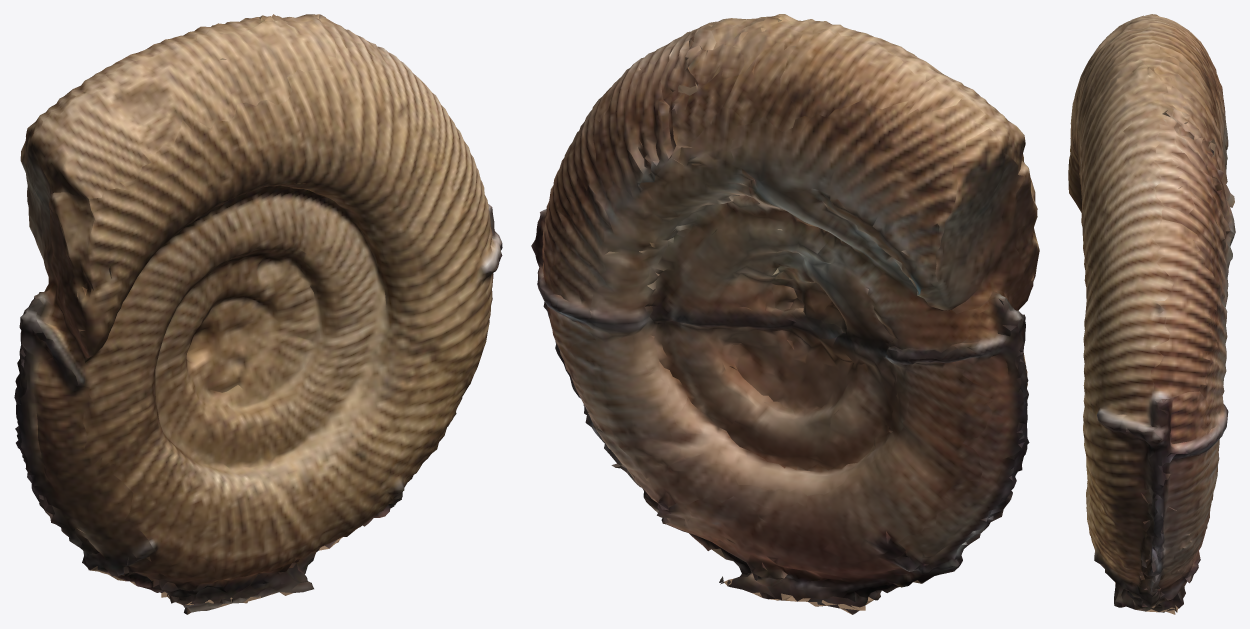
Rendered from ammonite_cephalopod.glb.
The picture shows the model from 3 angles, left to right: view 1: azimuth 30°, elevation 25°; view 2: azimuth 150°, elevation 25°; view 3: azimuth 270°, elevation 25°; orthographic projection. The views are drawn at different scales.
Parts seen in each view (by area): view 1: Object_2; view 2: Object_2; view 3: Object_2.
Part boxes in pixels (<box>): Object_2: <box>14,14,502,614</box>; Object_2: <box>531,14,1039,614</box>; Object_2: <box>1068,14,1235,614</box>.
Bounding box in the file's own units: 5.82 × 6.48 × 1.86.
1 material, 1 textured.
